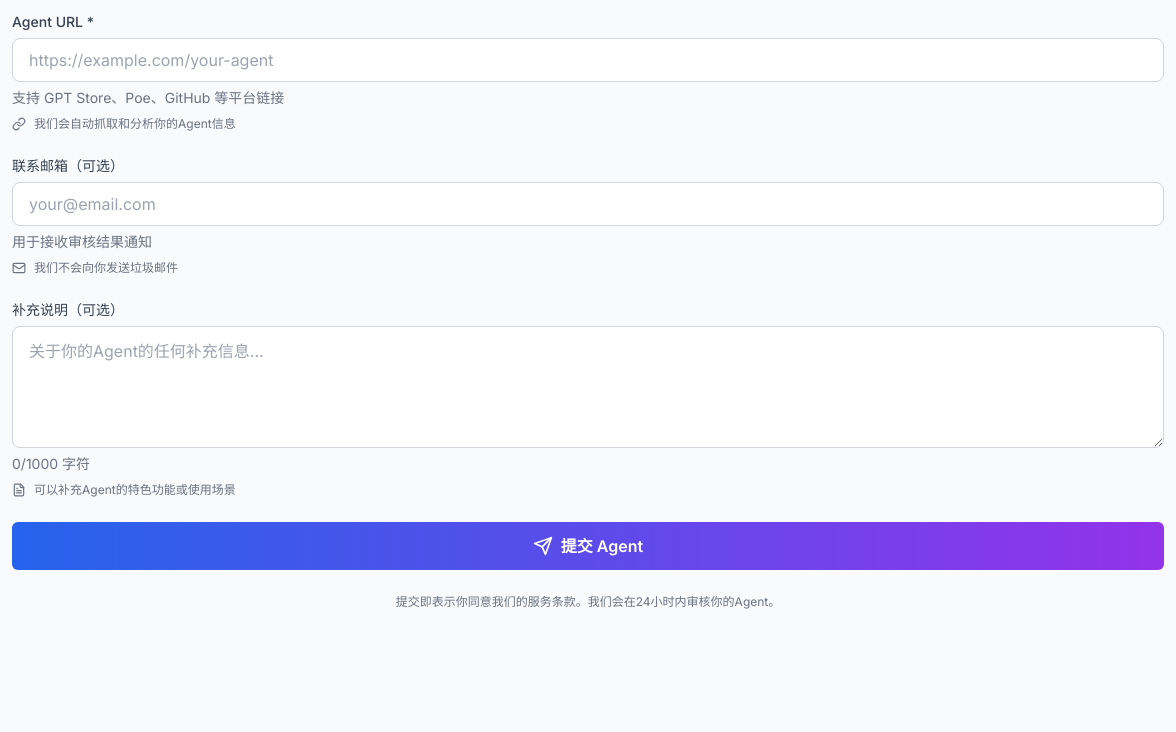
PublishAgentForm › 表单交互测试 › 应该在输入后清除错误
The width and height of the screenshot is (1176, 732).
Click the button "提交 Agent": (588, 546) [12, 522, 1164, 570]
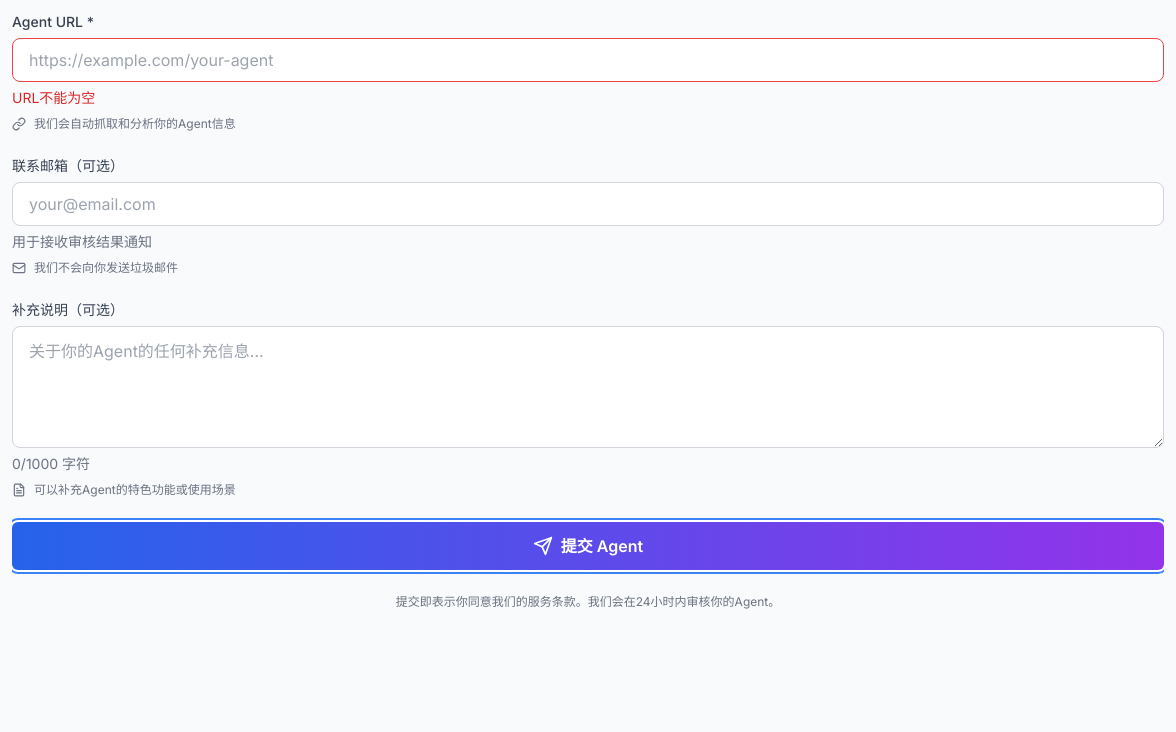
Now the text "URL不能为空" is shown, box [12, 89, 95, 106]
//  输入有效URL
In the field labelled "Agent URL *": (588, 60) [12, 38, 1164, 82], type "https://example.com"
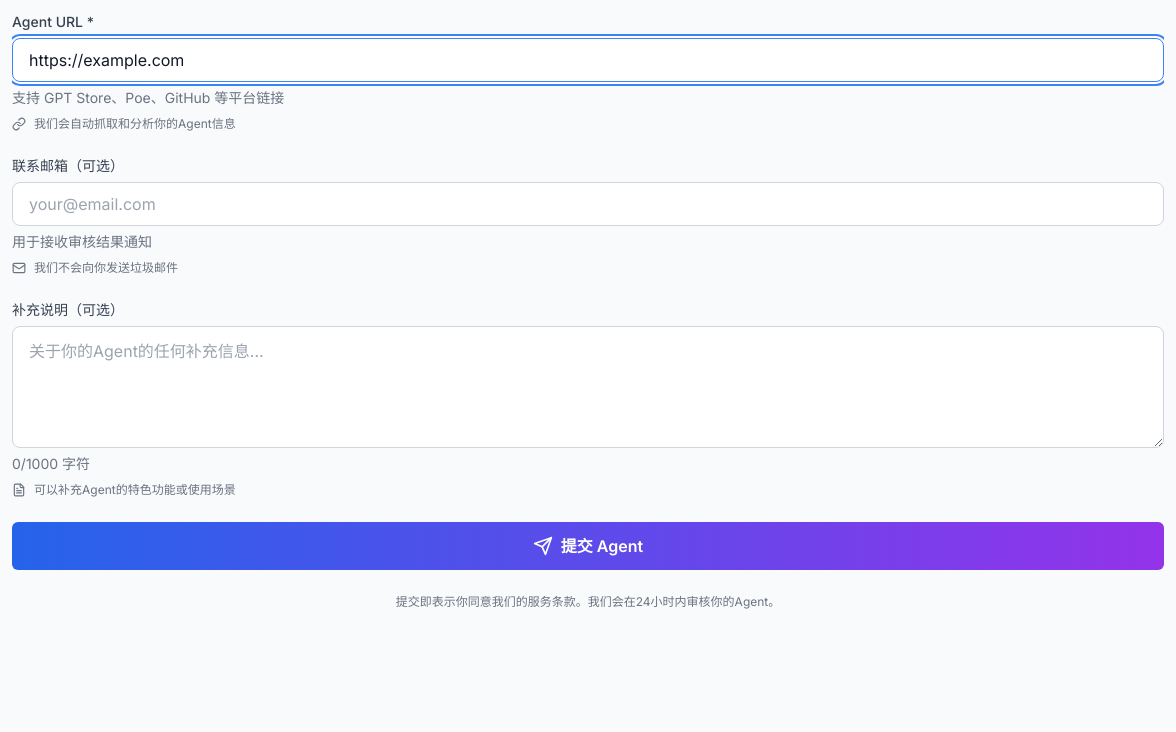
Now the text "URL不能为空" is gone
